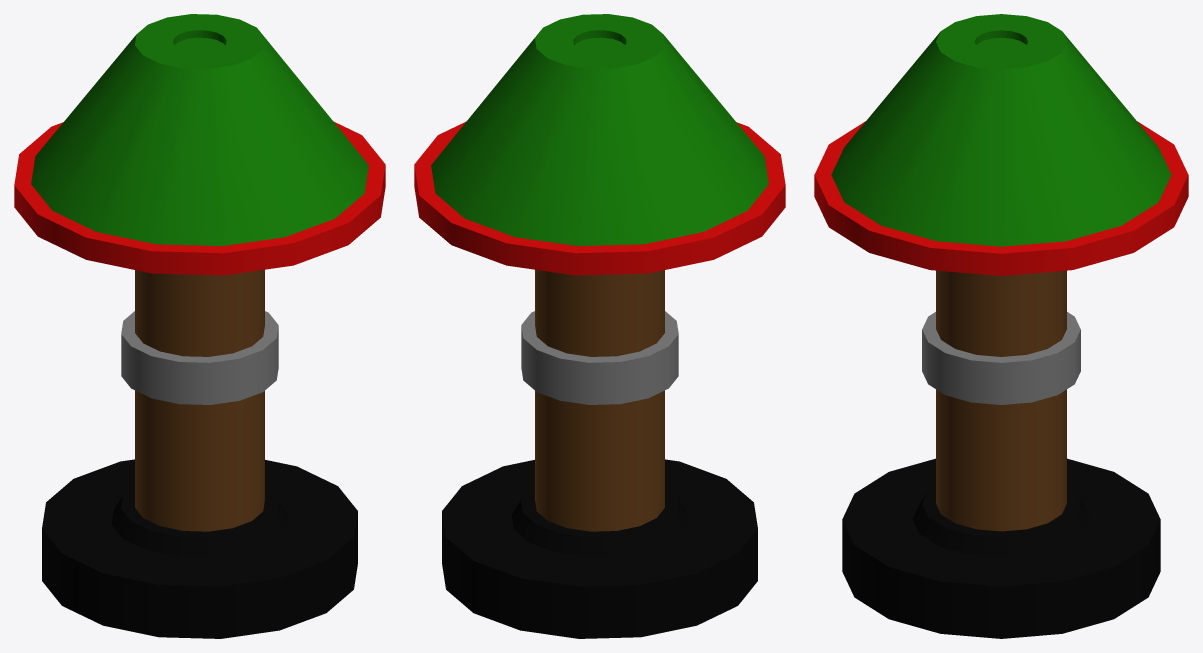
The model's file is support2_1.fbx.
3 views of the same model, side by side, from view 1: azimuth 30°, elevation 25°; view 2: azimuth 150°, elevation 25°; view 3: azimuth 270°, elevation 25° (orthographic).
Visible parts, largest first — view 1: Cylinder.037; view 2: Cylinder.037; view 3: Cylinder.037.
Boxes of the visible parts, box(x1,y1,x2,y2) form: Cylinder.037: box(14, 14, 385, 638); Cylinder.037: box(414, 14, 785, 638); Cylinder.037: box(814, 14, 1188, 638).
Size of the model in its own units: 454 by 710 by 454.
